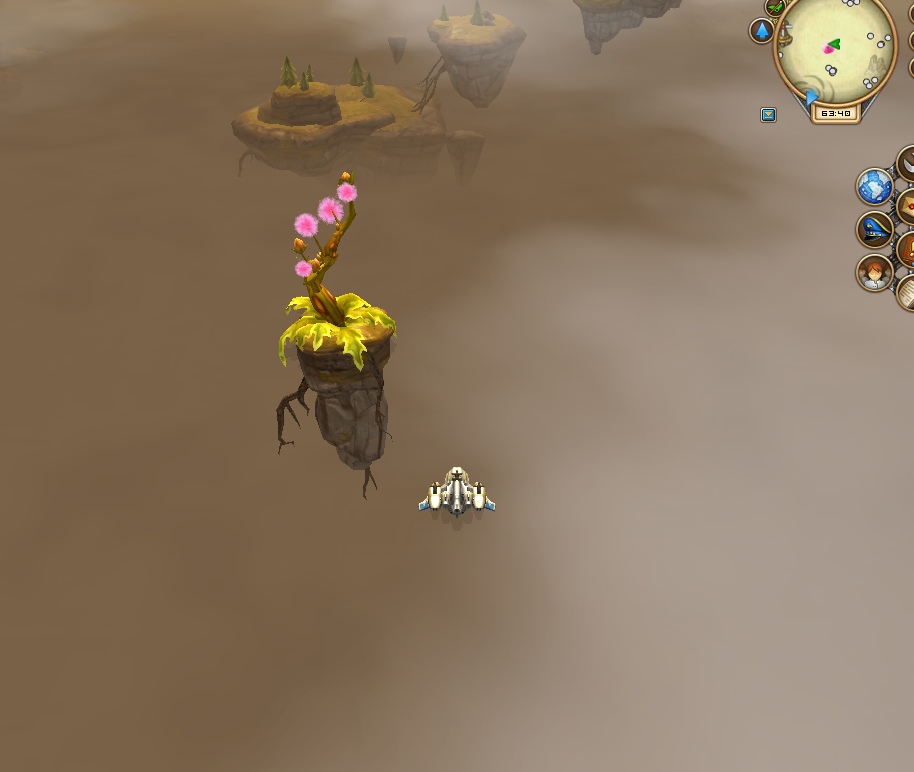dandelion-full: (249, 161, 418, 437)
